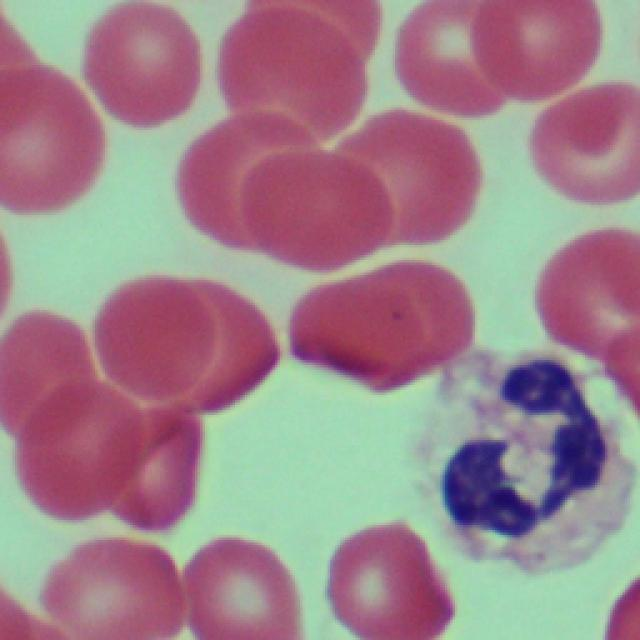RBC: (88, 268, 279, 429), (186, 108, 380, 256), (288, 255, 474, 397), (212, 2, 371, 166), (334, 101, 480, 246), (24, 378, 165, 510), (78, 0, 208, 128), (324, 513, 454, 640), (38, 529, 189, 638), (386, 1, 516, 124), (0, 55, 98, 217), (527, 218, 637, 362), (524, 81, 638, 213), (172, 529, 300, 638), (5, 294, 94, 434)
WBC: (429, 321, 640, 563)
